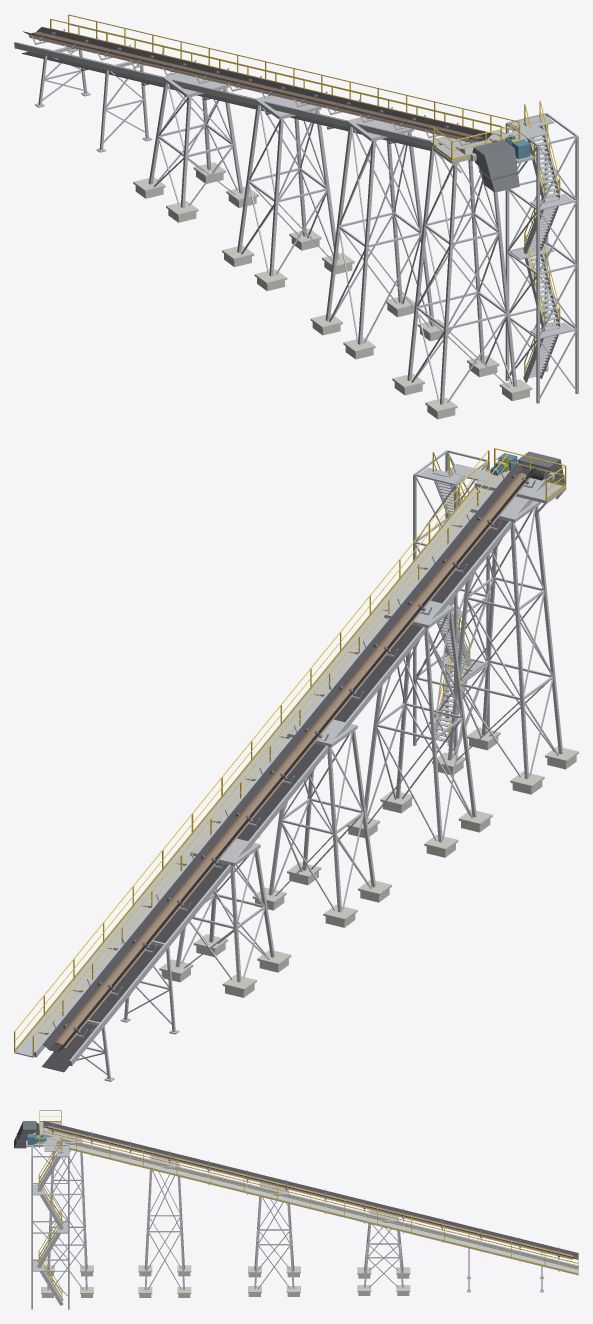
The model's file is ore-processing-and-haulage-plant-silo-feed-conveyor-77f6f8c9.glb.
3 renders of one model, top to bottom at view 1: azimuth 30°, elevation 25°; view 2: azimuth 150°, elevation 25°; view 3: azimuth 270°, elevation 25°, orthographic. The views are drawn at different scales.
Visible parts, largest first — view 1: silo-feed-conveyor; view 2: silo-feed-conveyor; view 3: silo-feed-conveyor.
Part boxes in pixels (left/top/right/bottom): silo-feed-conveyor: left=14, top=14, right=578, bottom=419; silo-feed-conveyor: left=14, top=448, right=578, bottom=1081; silo-feed-conveyor: left=14, top=1110, right=578, bottom=1309.
Bounding box in the file's own units: 7.54 × 14.95 × 46.44.
